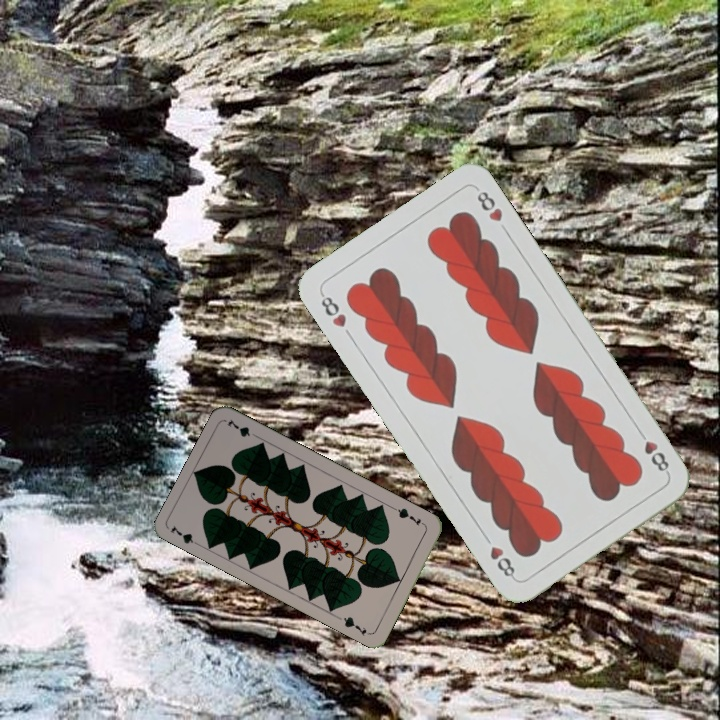G7: (166, 521, 204, 549), (391, 504, 428, 529)
H8: (633, 425, 672, 477), (316, 289, 349, 330)
